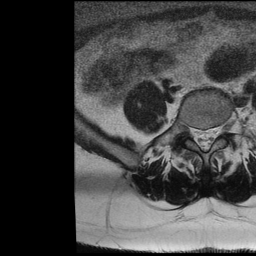CCS_normal: (200, 120, 209, 158)
LFS_normal: (216, 113, 226, 144)
LLS_normal: (209, 120, 217, 150)
RFS_normal: (183, 115, 192, 145)
RLS_normal: (192, 119, 200, 151)
